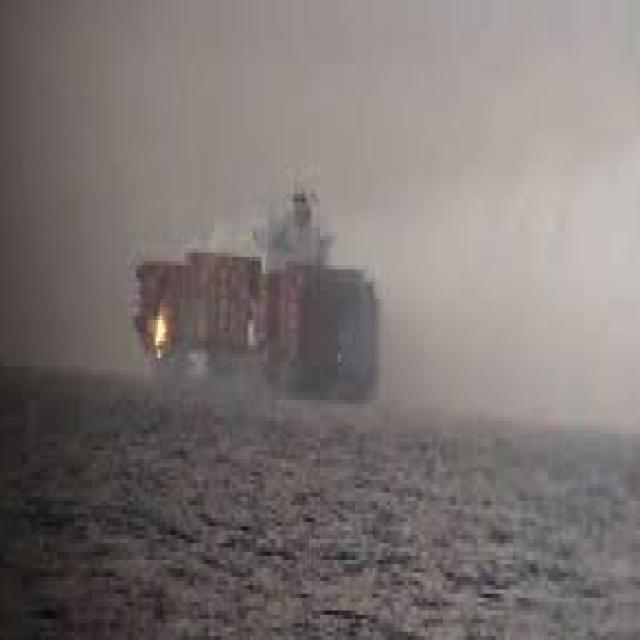cargoship: (127, 179, 389, 401)
